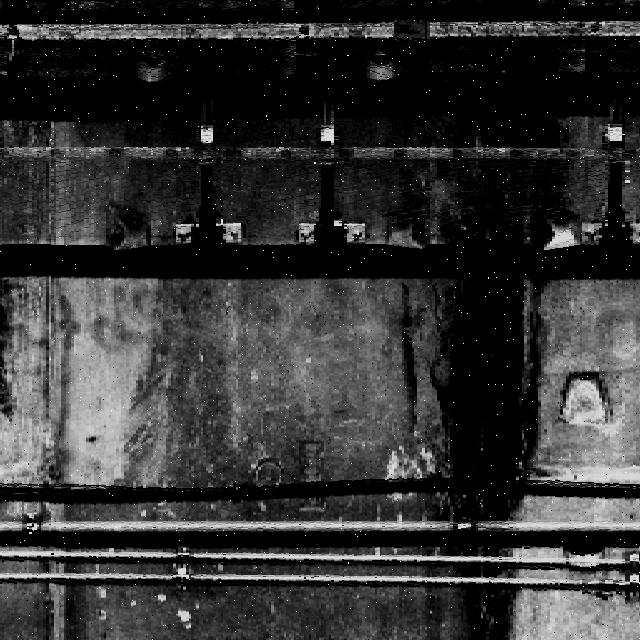leakage: (435, 115, 561, 639)
